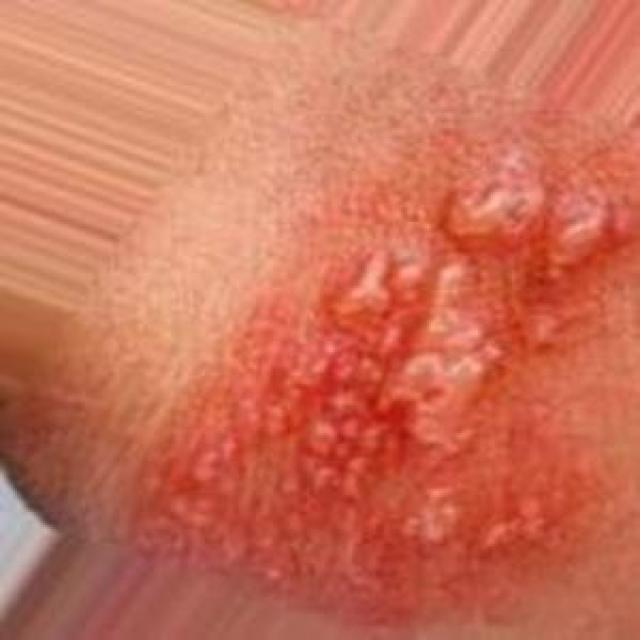Shingles: (150, 162, 640, 569)
